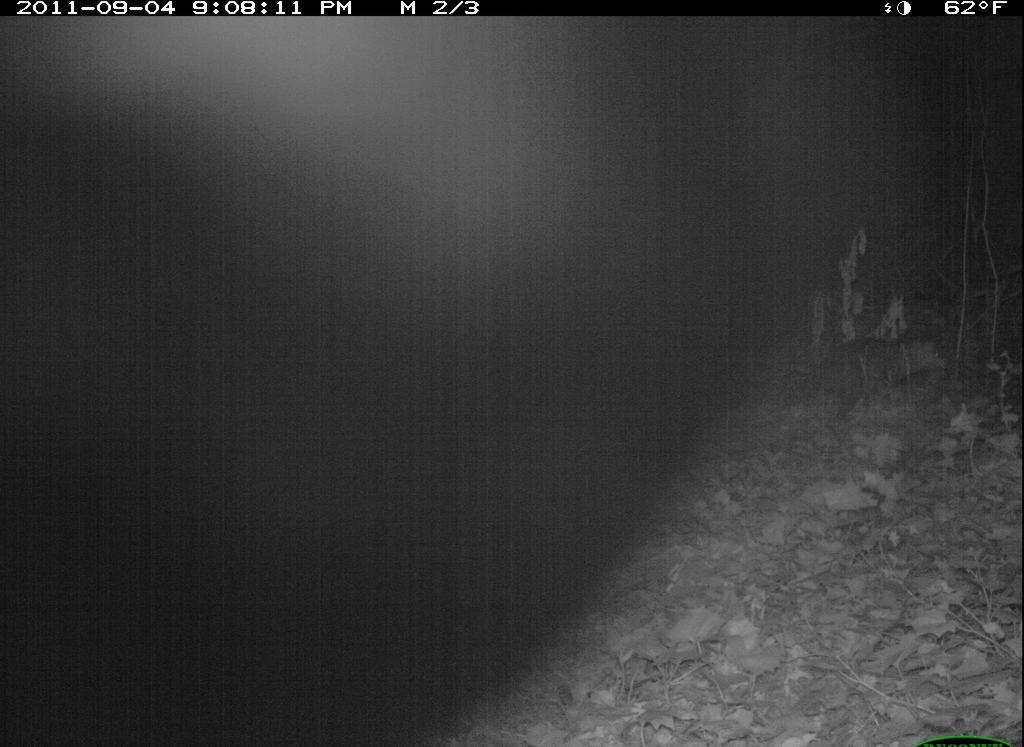opossum: (792, 327, 961, 427)
